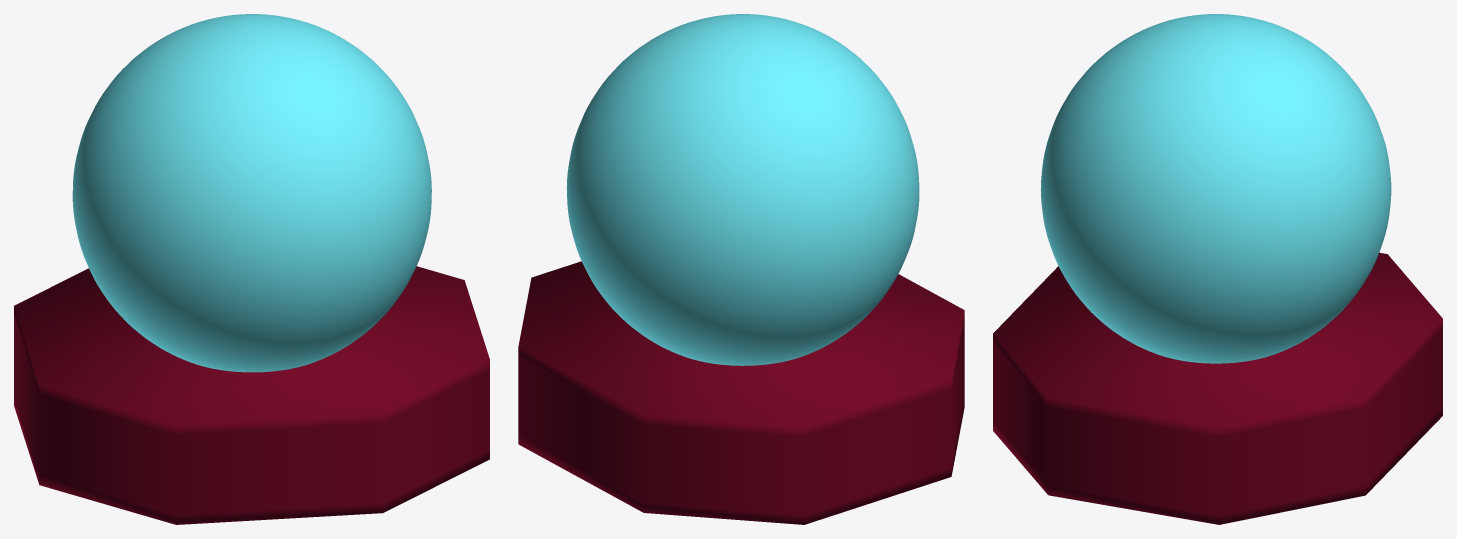
The model's file is Snow globe.fbx.
3 renders of one model, left to right at view 1: azimuth 30°, elevation 25°; view 2: azimuth 150°, elevation 25°; view 3: azimuth 270°, elevation 25°, orthographic. The views are drawn at different scales.
Visible parts, largest first — view 1: Snow globe; view 2: Snow globe; view 3: Snow globe.
Boxes of the visible parts, x1=… form: Snow globe: x1=14, y1=14, x2=489, y2=524; Snow globe: x1=518, y1=14, x2=964, y2=524; Snow globe: x1=993, y1=14, x2=1442, y2=524.
Size of the model in its own units: 23.34 by 21.05 by 21.85.
